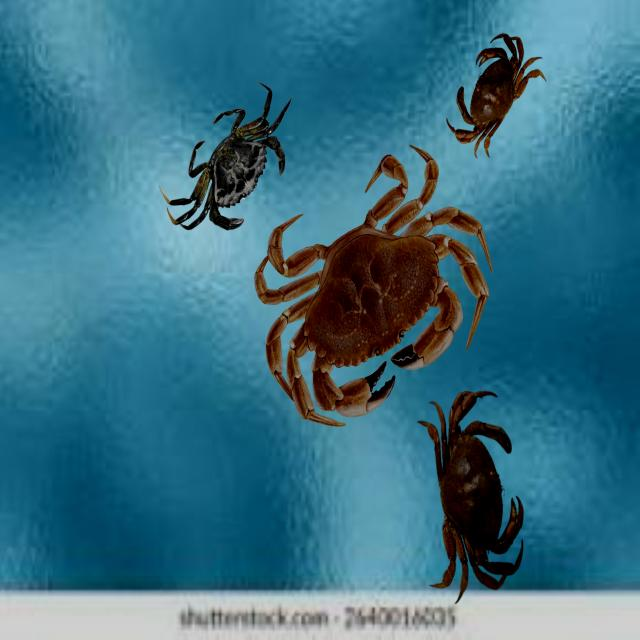European_Green_Crab: (152, 59, 319, 269)
